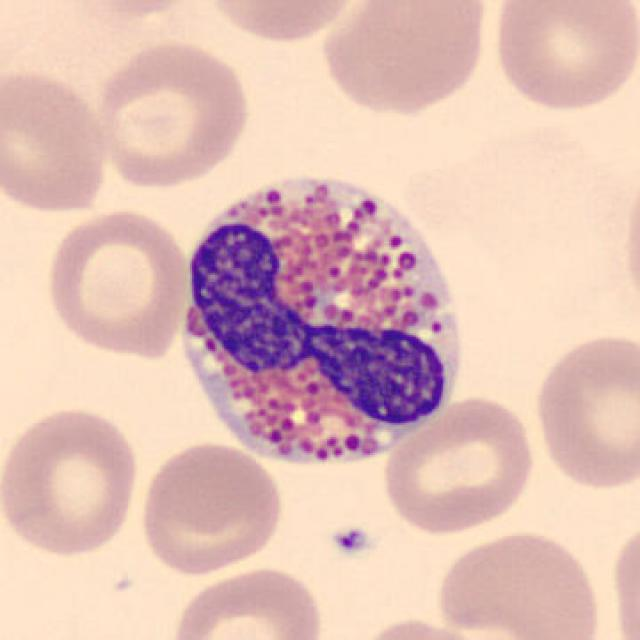Eosinophil: (164, 152, 478, 486)
Platelets: (327, 520, 375, 559)
RBC: (89, 37, 254, 190), (41, 205, 194, 362), (378, 391, 540, 538), (0, 400, 144, 561), (134, 438, 286, 578), (315, 0, 494, 118), (430, 526, 606, 638), (528, 328, 638, 495), (488, 0, 638, 116), (0, 65, 114, 217), (165, 562, 327, 640), (199, 0, 368, 46), (606, 515, 640, 640), (346, 613, 503, 640), (618, 162, 640, 324), (69, 0, 208, 18)
